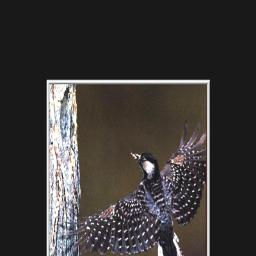Woodpecker: (63, 124, 207, 256)
